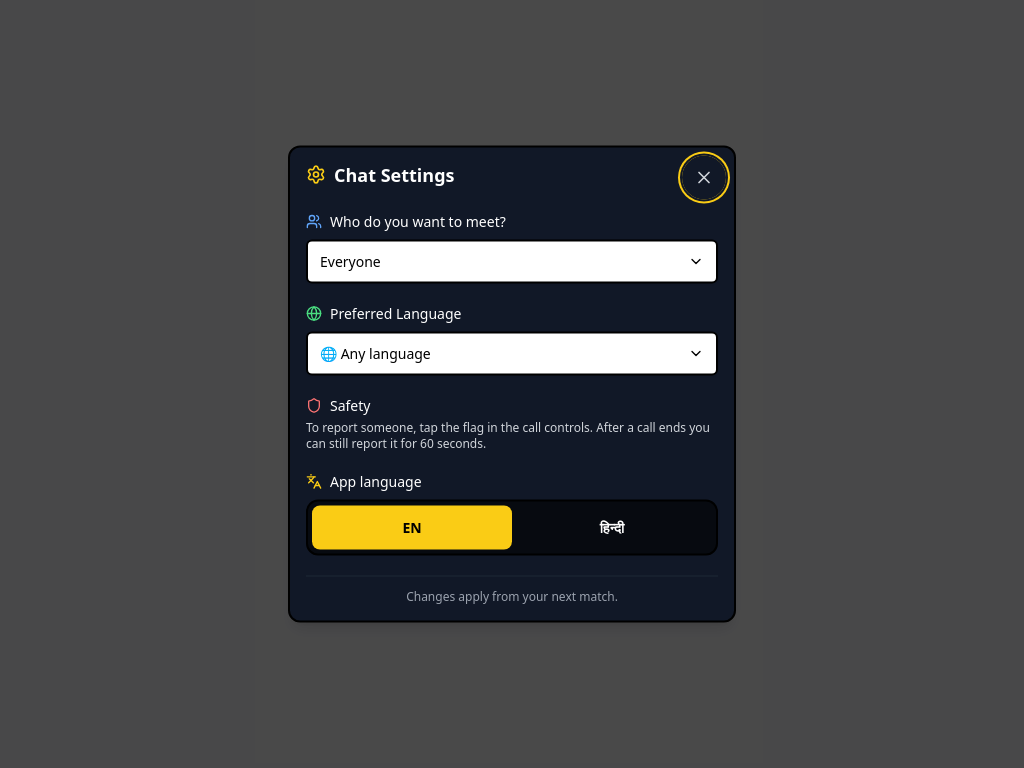
Test: ChatSettings › renders any language plus every language option
Click the button named "Preferred Language" at (375, 353), box [306,332,718,376]
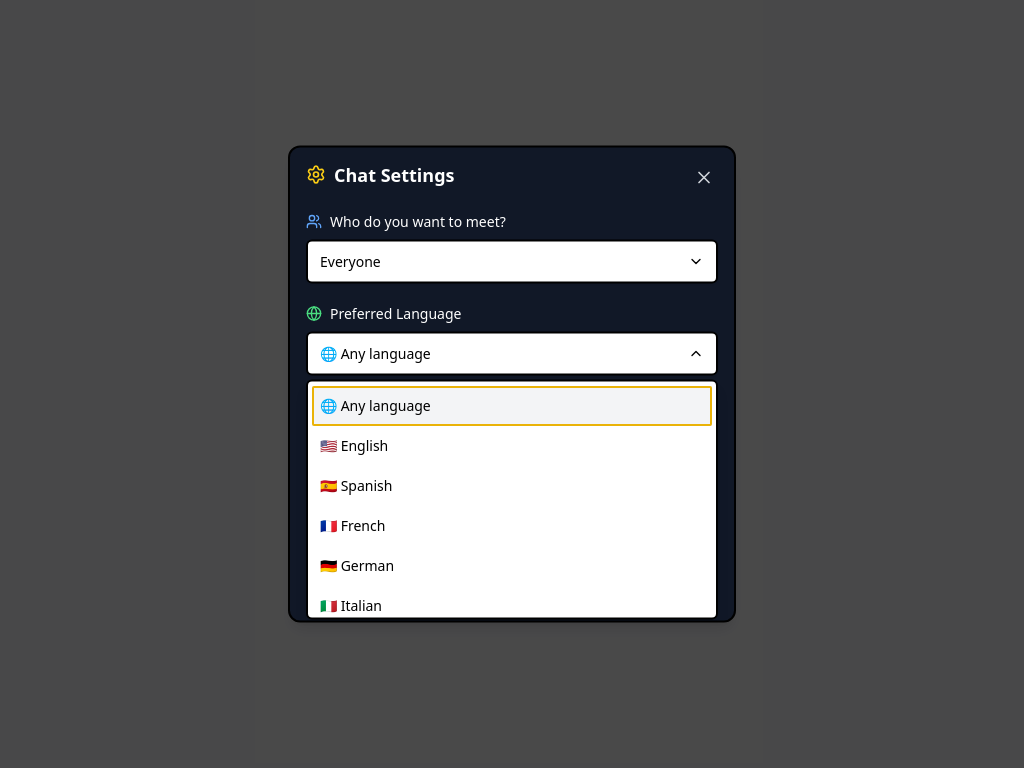
Expected: the option "🌐 Any language" is shown, [312,386,712,426]
